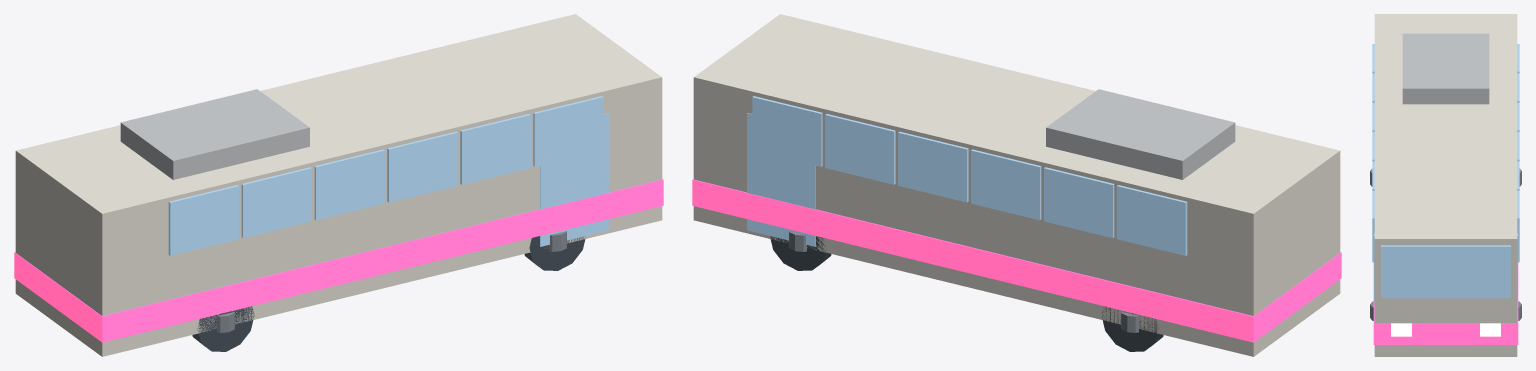
The model's file is veh_bus.glb.
3 views of the same model, side by side, from view 1: azimuth 30°, elevation 25°; view 2: azimuth 150°, elevation 25°; view 3: azimuth 270°, elevation 25° (orthographic). The views are drawn at different scales.
Visible parts, largest first — view 1: body.054, stripe.003, roof_box.002, win.083, door.048, win.085, win.093, win.087, win.089, win.091, wheel.060, wheel.058; view 2: body.054, stripe.003, roof_box.002, win.084, door.048, win.086, win.094, win.088, win.090, win.092, wheel.061, wheel.059; view 3: body.054, windshield.008, roof_box.002, stripe.003, headlight.022, headlight.023, win.093, win.094, door.048.
Part boxes in pixels (x1,y1,x2,y2): body.054: [15, 14, 662, 356]; stripe.003: [14, 179, 663, 342]; roof_box.002: [120, 89, 309, 179]; win.083: [168, 185, 239, 255]; door.048: [540, 113, 608, 246]; win.085: [241, 167, 311, 237]; win.093: [533, 96, 603, 166]; win.087: [314, 149, 384, 220]; win.089: [387, 131, 457, 202]; win.091: [460, 114, 530, 184]; wheel.060: [192, 306, 254, 351]; wheel.058: [524, 236, 585, 270]; body.054: [693, 14, 1340, 356]; stripe.003: [692, 179, 1341, 342]; roof_box.002: [1046, 89, 1235, 179]; win.084: [1116, 185, 1187, 255]; door.048: [747, 113, 815, 246]; win.086: [1044, 167, 1114, 237]; win.094: [752, 96, 822, 166]; win.088: [971, 149, 1041, 220]; win.090: [898, 131, 968, 202]; win.092: [825, 114, 895, 184]; wheel.061: [1102, 306, 1163, 351]; wheel.059: [770, 236, 831, 270]; body.054: [1374, 14, 1517, 356]; windshield.008: [1381, 245, 1510, 298]; roof_box.002: [1402, 33, 1489, 104]; stripe.003: [1373, 262, 1518, 344]; headlight.022: [1391, 323, 1411, 336]; headlight.023: [1480, 323, 1500, 336]; win.093: [1372, 190, 1374, 262]; win.094: [1517, 190, 1519, 262]; door.048: [1374, 233, 1517, 301].
Size of the model in its own units: 8.66 by 2.75 by 2.45.
